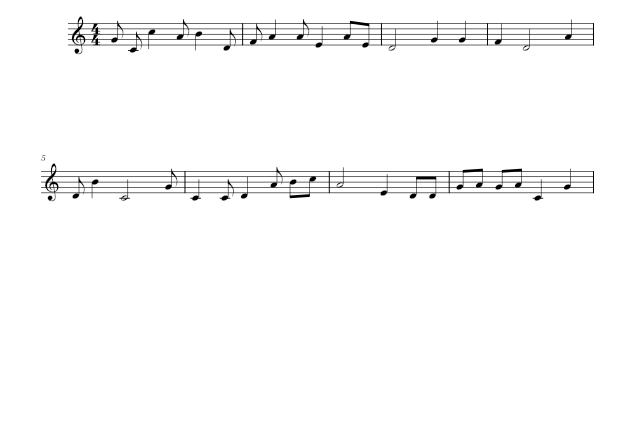Treble Clef: (67, 12, 90, 58), (42, 160, 63, 204)
